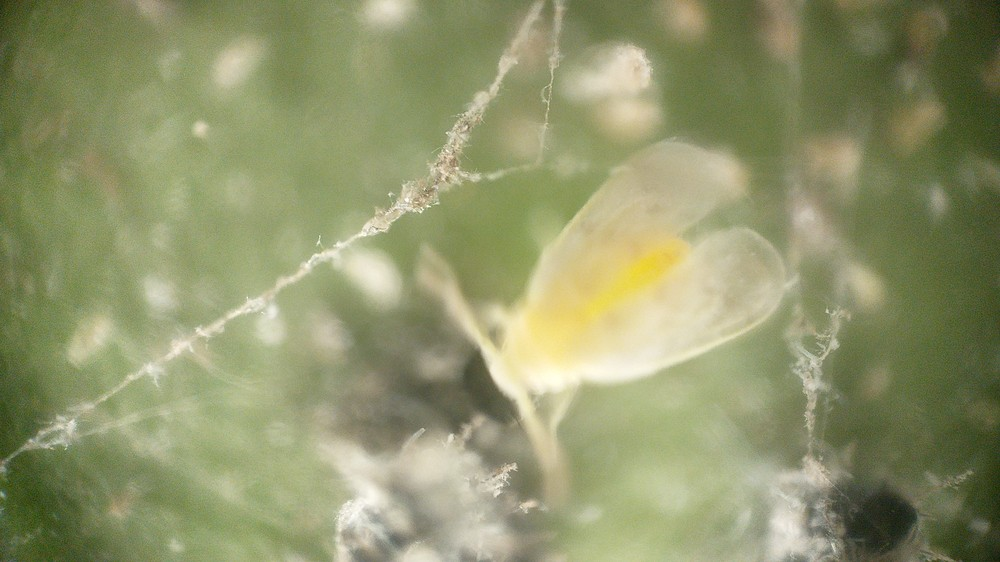Mosca Blanca: (412, 135, 823, 498)
